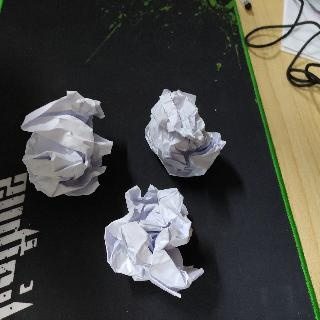8/可回收垃圾/纸: (103, 185, 204, 299), (20, 89, 113, 196), (144, 88, 226, 176)
